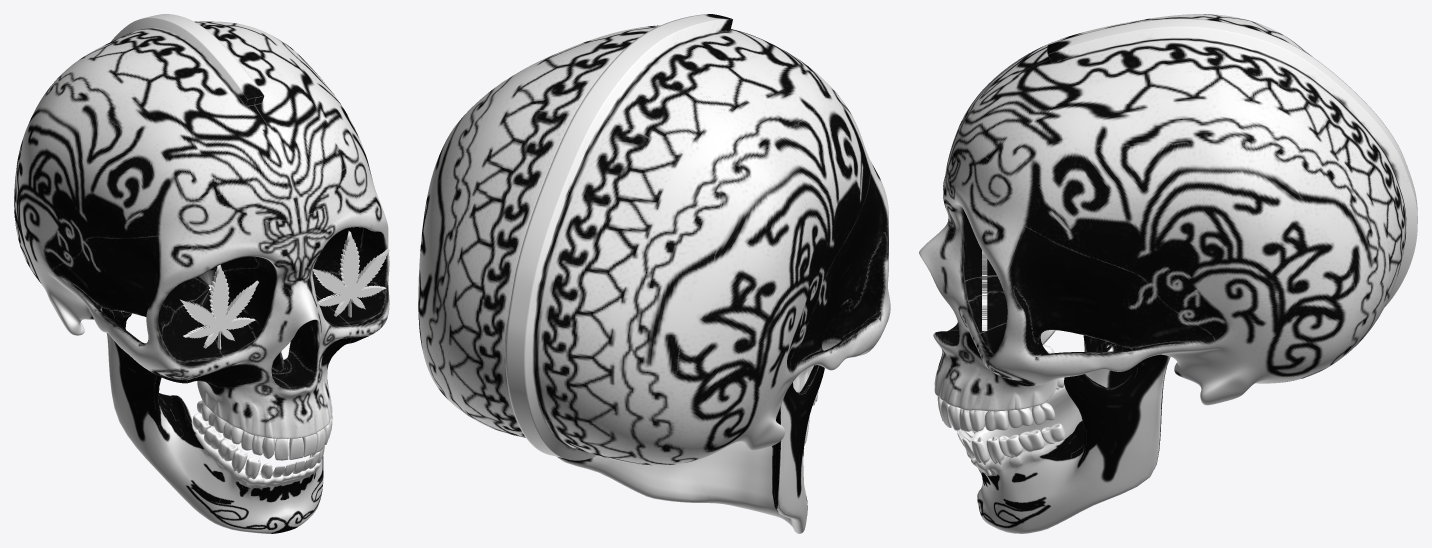
The model's file is Skull_Resize4.glb.
The picture shows the model from 3 angles, left to right: view 1: azimuth 30°, elevation 25°; view 2: azimuth 150°, elevation 25°; view 3: azimuth 270°, elevation 25°; orthographic projection. The views are drawn at different scales.
Parts seen in each view (by area): view 1: Plane047, zub_084; view 2: Plane047, zub_084; view 3: Plane047, zub_084.
Boxes of the visible parts, box(x1,y1,x2,y2) form: Plane047: box(14, 14, 389, 460); zub_084: box(101, 308, 324, 533); Plane047: box(418, 14, 890, 465); zub_084: box(556, 365, 824, 533); Plane047: box(919, 14, 1417, 431); zub_084: box(957, 335, 1170, 533).
Bounding box in the file's own units: 0.5633 × 0.8369 × 0.7688.
Materials: 3 (3 with a texture image).
